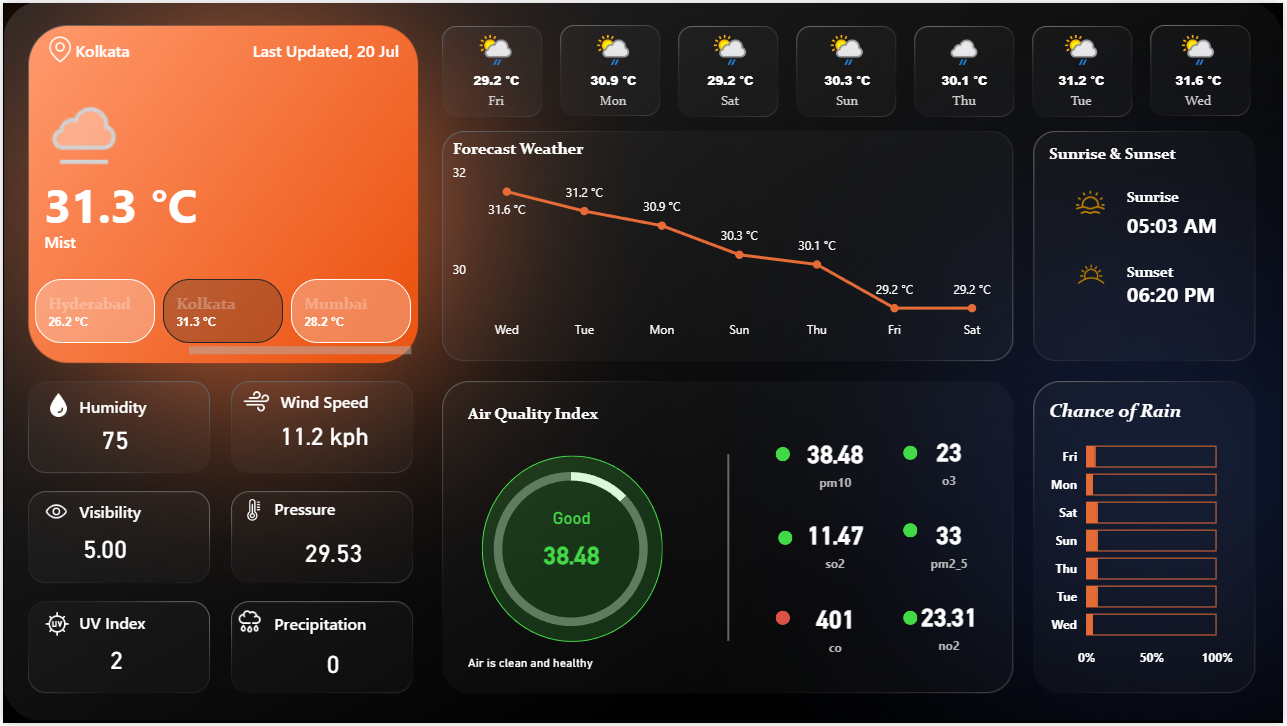

The dashboard page shown, as its layout file describes it:
{"tool":"powerbi","page":{"name":"Page 1","canvas":[1280,720],"ordinal":0},"visuals":[{"type":"donutChart","fields":{"Y":["Sum(Current.current.air_quality.pm10)","_Measures.Leftt_Value_PM10"]},"box":[429,445,278.4,202.5],"z":0},{"type":"shape","box":[478.3,453,181.2,186.5],"z":1000},{"type":"advancedSlicerVisual","fields":{"Values":["Locations.location.name"]},"box":[27.4,271.7,387,87.8],"z":2000},{"type":"shape","box":[41.8,170.3,161.3,53.8],"z":3000},{"type":"shape","box":[41.8,219.6,161.3,35.9],"z":4000},{"type":"shape","box":[72.7,28.8,161.9,35.7],"z":5000},{"type":"image","box":[27.4,28.8,59,35.7],"z":6000},{"type":"shape","box":[203.1,28.8,193.5,35.7],"z":7000},{"type":"cardVisual","fields":{"Data":["Min(Current.current.condition.icon)"]},"box":[14.9,64.2,118,115],"z":8000},{"type":"image","box":[37.3,385.4,35.9,34.4],"z":9000},{"type":"image","box":[234.5,378,37.3,41.8],"z":10000},{"type":"image","box":[34.4,491.5,38.8,34.4],"z":11000},{"type":"image","box":[234.5,491.5,31.4,31.4],"z":12000},{"type":"image","box":[34.4,603.6,40.3,34.4],"z":13000},{"type":"image","box":[227.1,600.6,38.8,37.3],"z":14000},{"type":"textbox","box":[71.7,386.9,91.1,34.4],"z":15000},{"type":"textbox","box":[71.7,493,91.1,34.4],"z":16000},{"type":"textbox","box":[265.9,490,91.1,34.4],"z":17000},{"type":"textbox","box":[71.7,603.6,121,34.4],"z":18000},{"type":"textbox","box":[265.9,605,113.5,34.4],"z":19000},{"type":"textbox","box":[271.9,382.4,131.5,34.4],"z":20000},{"type":"card","fields":{"Values":["Sum(Current.current.humidity)"]},"box":[71.7,398.9,82.2,76.2],"z":21000},{"type":"card","fields":{"Values":["Current.Wind_Speed"]},"box":[251,416.8,140.4,32.9],"z":22000},{"type":"card","fields":{"Values":["Sum(Current.current.pressure_in)"]},"box":[271.9,522.9,116.5,53.8],"z":23000},{"type":"card","fields":{"Values":["Sum(Current.current.precip_mm)"]},"box":[289.8,637.9,80.7,46.3],"z":24000},{"type":"card","fields":{"Values":["Sum(Current.current.uv)"]},"box":[85.2,639.4,56.8,34.4],"z":25000},{"type":"card","fields":{"Values":["Sum(Current.current.vis_km)"]},"box":[56.8,522.9,91.1,46.3],"z":26000},{"type":"actionButton","box":[0,0,100,40],"z":27000},{"type":"lineChart","title":"Forecast Weather","fields":{"Y":["Sum(Forecast_Day.forecast.forecastday.day.avgtemp_c)"],"Category":["Forecast_Day.Day_Name"]},"box":[445,136.8,560.2,208.8],"z":28000},{"type":"textbox","box":[1041.2,136.8,164.2,33.1],"z":29000},{"type":"shape","box":[1123.3,197.3,132.5,49],"z":30000},{"type":"shape","box":[1123.3,266.4,132.5,49],"z":31000},{"type":"textbox","box":[1119,180,86.4,38.9],"z":32000},{"type":"textbox","box":[1119,254.9,86.4,44.6],"z":33000},{"type":"image","box":[1054.2,180,67.7,38.9],"z":34000},{"type":"image","box":[1054.2,249.1,69.1,44.6],"z":35000},{"type":"advancedSlicerVisual","fields":{"Values":["Forecast_Day.Day_Name"]},"box":[433.6,20.6,823.3,94.7],"z":36000},{"type":"hundredPercentStackedBarChart","title":"Chance of Rain","fields":{"Category":["Forecast_Day.Day_Name"],"Y":["CountNonNull(Forecast_Day.forecast.forecastday.date)","Forecast_Day.Left_Value_Rain"]},"box":[1041.5,396.6,193.5,277.2],"z":37000},{"type":"textbox","box":[459.7,396.6,167.4,28.8],"z":38000},{"type":"card","fields":{"Values":["Sum(Current.current.air_quality.o3)"]},"box":[885.9,419.7,119.9,74.6],"z":39000},{"type":"card","fields":{"Values":["Sum(Current.current.air_quality.no2)"]},"box":[885.9,584.8,119.9,74.6],"z":40000},{"type":"card","fields":{"Values":["Sum(Current.current.air_quality.pm2_5)"]},"box":[885.9,502.2,119.9,74.6],"z":41000},{"type":"card","fields":{"Values":["Sum(Current.current.air_quality.co)"]},"box":[772.7,586.2,119.9,74.6],"z":42000},{"type":"card","fields":{"Values":["Sum(Current.current.air_quality.so2)"]},"box":[772.7,502.2,119.9,74.6],"z":43000},{"type":"card","fields":{"Values":["Sum(Current.current.air_quality.pm10)"]},"box":[772.7,421,119.9,74.6],"z":44000},{"type":"shape","box":[772.7,443.6,14.7,14.7],"z":45000},{"type":"shape","box":[772.7,607.5,14.7,14.7],"z":46000},{"type":"shape","box":[900.6,607.5,14.7,14.7],"z":47000},{"type":"shape","box":[900.6,519.6,14.7,14.7],"z":48000},{"type":"shape","box":[775.4,527.6,14.7,14.7],"z":49000},{"type":"shape","box":[900.6,442.3,14.7,14.7],"z":50000},{"type":"shape","box":[628.8,451.6,193.2,186.5],"z":51000},{"type":"card","fields":{"Values":["Sum(Current.current.air_quality.pm10)"]},"box":[508.9,504.9,119.9,74.6],"z":52000},{"type":"textbox","box":[459.6,652.8,229.1,14.7],"z":52002}]}

Visuals, with their boxes in screenshot pixels (x1, y1, x2, y2), scaled from the page's 1280x720 canvas onto the 1287x726 screenshot:
donutChart - Sum(Current.current.air_quality.pm10) x _Measures.Leftt_Value_PM10: region(431, 449, 711, 653)
shape: region(481, 457, 663, 645)
advancedSlicerVisual - Locations.location.name: region(28, 274, 417, 362)
shape: region(42, 172, 204, 226)
shape: region(42, 221, 204, 258)
shape: region(73, 29, 236, 65)
image: region(28, 29, 87, 65)
shape: region(204, 29, 399, 65)
cardVisual - Min(Current.current.condition.icon): region(15, 65, 134, 181)
image: region(38, 389, 74, 423)
image: region(236, 381, 273, 423)
image: region(35, 496, 74, 530)
image: region(236, 496, 267, 527)
image: region(35, 609, 75, 643)
image: region(228, 606, 267, 643)
textbox: region(72, 390, 164, 425)
textbox: region(72, 497, 164, 532)
textbox: region(267, 494, 359, 529)
textbox: region(72, 609, 194, 643)
textbox: region(267, 610, 381, 645)
textbox: region(273, 386, 406, 420)
card - Sum(Current.current.humidity): region(72, 402, 155, 479)
card - Current.Wind_Speed: region(252, 420, 394, 453)
card - Sum(Current.current.pressure_in): region(273, 527, 391, 582)
card - Sum(Current.current.precip_mm): region(291, 643, 373, 690)
card - Sum(Current.current.uv): region(86, 645, 143, 679)
card - Sum(Current.current.vis_km): region(57, 527, 149, 574)
actionButton: region(0, 0, 101, 40)
"Forecast Weather" lineChart: region(447, 138, 1011, 348)
textbox: region(1047, 138, 1212, 171)
shape: region(1129, 199, 1263, 248)
shape: region(1129, 269, 1263, 318)
textbox: region(1125, 182, 1212, 221)
textbox: region(1125, 257, 1212, 302)
image: region(1060, 182, 1128, 221)
image: region(1060, 251, 1129, 296)
advancedSlicerVisual - Forecast_Day.Day_Name: region(436, 21, 1264, 116)
"Chance of Rain" hundredPercentStackedBarChart: region(1047, 400, 1242, 679)
textbox: region(462, 400, 631, 429)
card - Sum(Current.current.air_quality.o3): region(891, 423, 1011, 498)
card - Sum(Current.current.air_quality.no2): region(891, 590, 1011, 665)
card - Sum(Current.current.air_quality.pm2_5): region(891, 506, 1011, 582)
card - Sum(Current.current.air_quality.co): region(777, 591, 897, 666)
card - Sum(Current.current.air_quality.so2): region(777, 506, 897, 582)
card - Sum(Current.current.air_quality.pm10): region(777, 425, 897, 500)
shape: region(777, 447, 792, 462)
shape: region(777, 613, 792, 627)
shape: region(906, 613, 920, 627)
shape: region(906, 524, 920, 539)
shape: region(780, 532, 794, 547)
shape: region(906, 446, 920, 461)
shape: region(632, 455, 826, 643)
card - Sum(Current.current.air_quality.pm10): region(512, 509, 632, 584)
textbox: region(462, 658, 692, 673)
